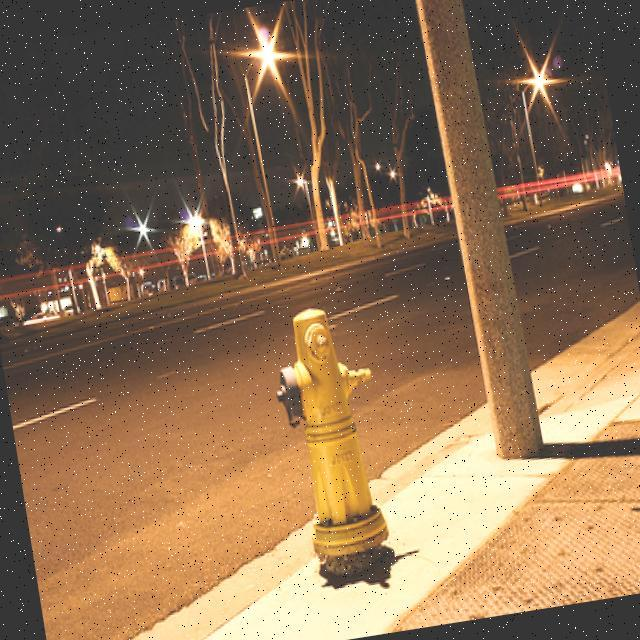fire_hydrant: (262, 297, 403, 575)
